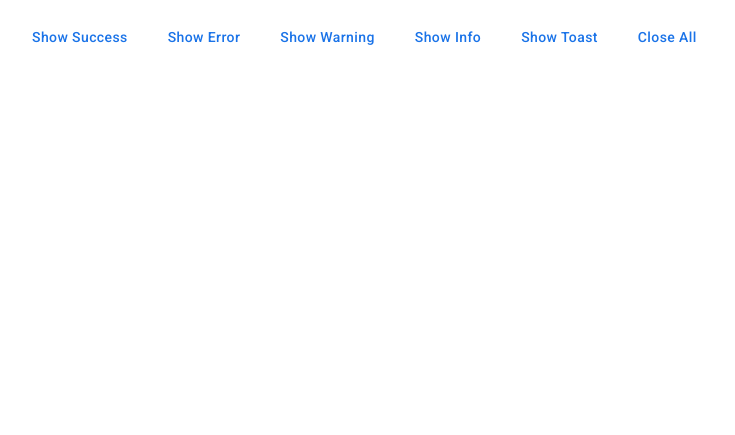
Test: ToastProvider and useToast › closeAllToasts removes all toasts
# Show multiple toasts
Click the button "Show Success". click: (80, 37)
box: 12,17 -> 148,57
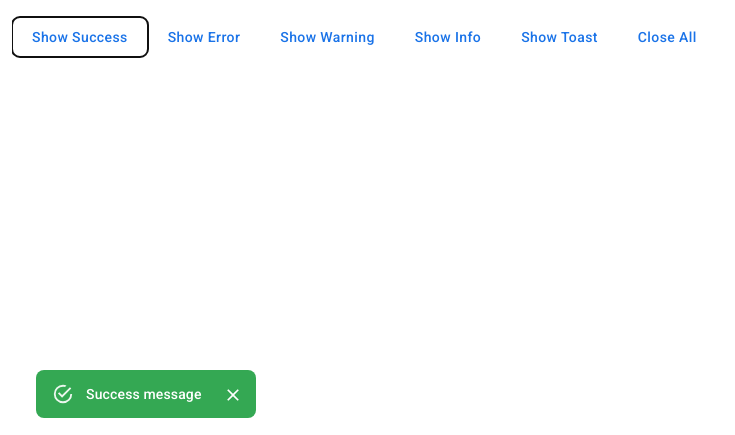
Click the button "Show Error". click: (204, 37)
box: 148,17 -> 260,57
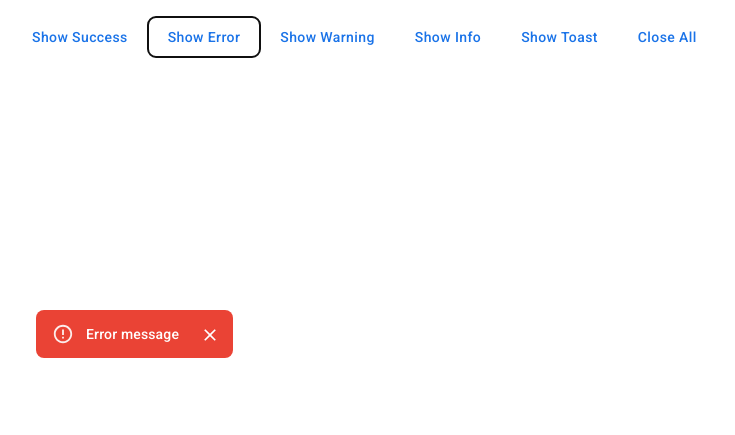
Click the button "Show Info". click: (448, 37)
box: 395,17 -> 501,57
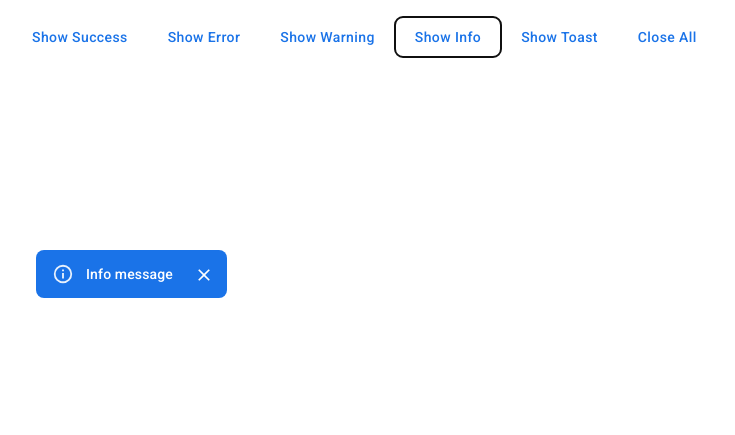
Expected: the text "Info message" is shown, 86,266 -> 173,282
# Close all toasts
Click the button "Close All". click: (667, 37)
box: 618,17 -> 717,57
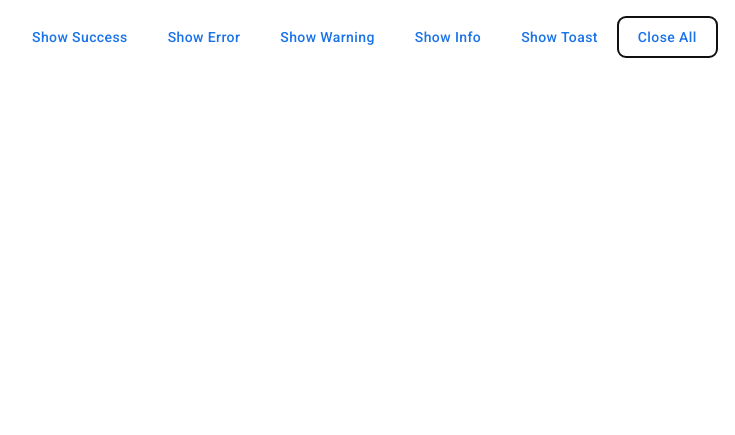
Expected: the text "Success message" is not shown
Expected: the text "Info message" is gone
